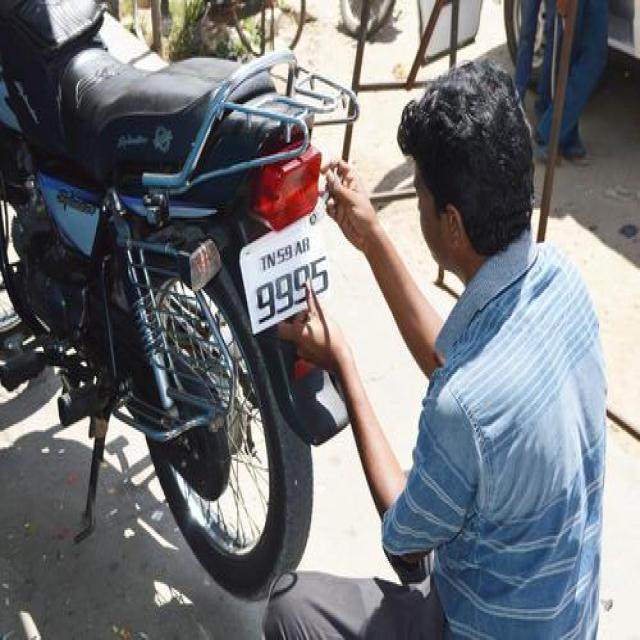number plate: (238, 212, 330, 335)
